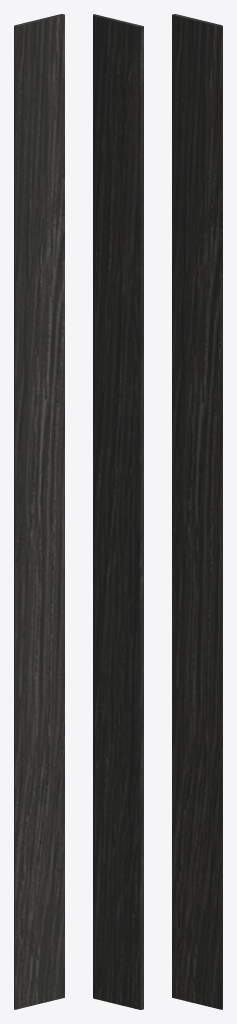
The model's file is right_gable_bottom_edge.obj.
3 renders of one model, left to right at view 1: azimuth 30°, elevation 25°; view 2: azimuth 150°, elevation 25°; view 3: azimuth 330°, elevation 25°, orthographic.
Visible parts, largest first — view 1: Product; view 2: Product; view 3: Product.
Part boxes in pixels (left/top/right/bottom): Product: left=14, top=14, right=64, bottom=1009; Product: left=93, top=14, right=143, bottom=1009; Product: left=172, top=14, right=222, bottom=1009.
Size of the model in its own units: 16 by 300 by 1.
